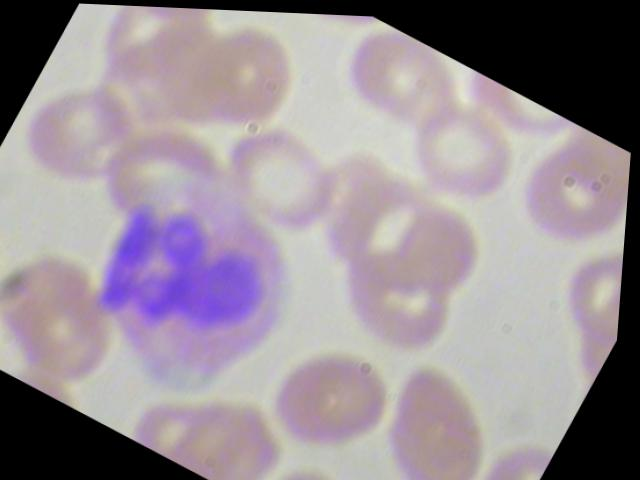Red Blood Cells: (0, 228, 154, 405), (254, 314, 423, 472), (0, 55, 163, 215), (351, 342, 534, 479), (201, 104, 363, 253), (382, 76, 538, 220), (498, 125, 633, 269), (100, 4, 238, 40), (378, 458, 529, 479)
White Blood Cells: (57, 149, 344, 430)
